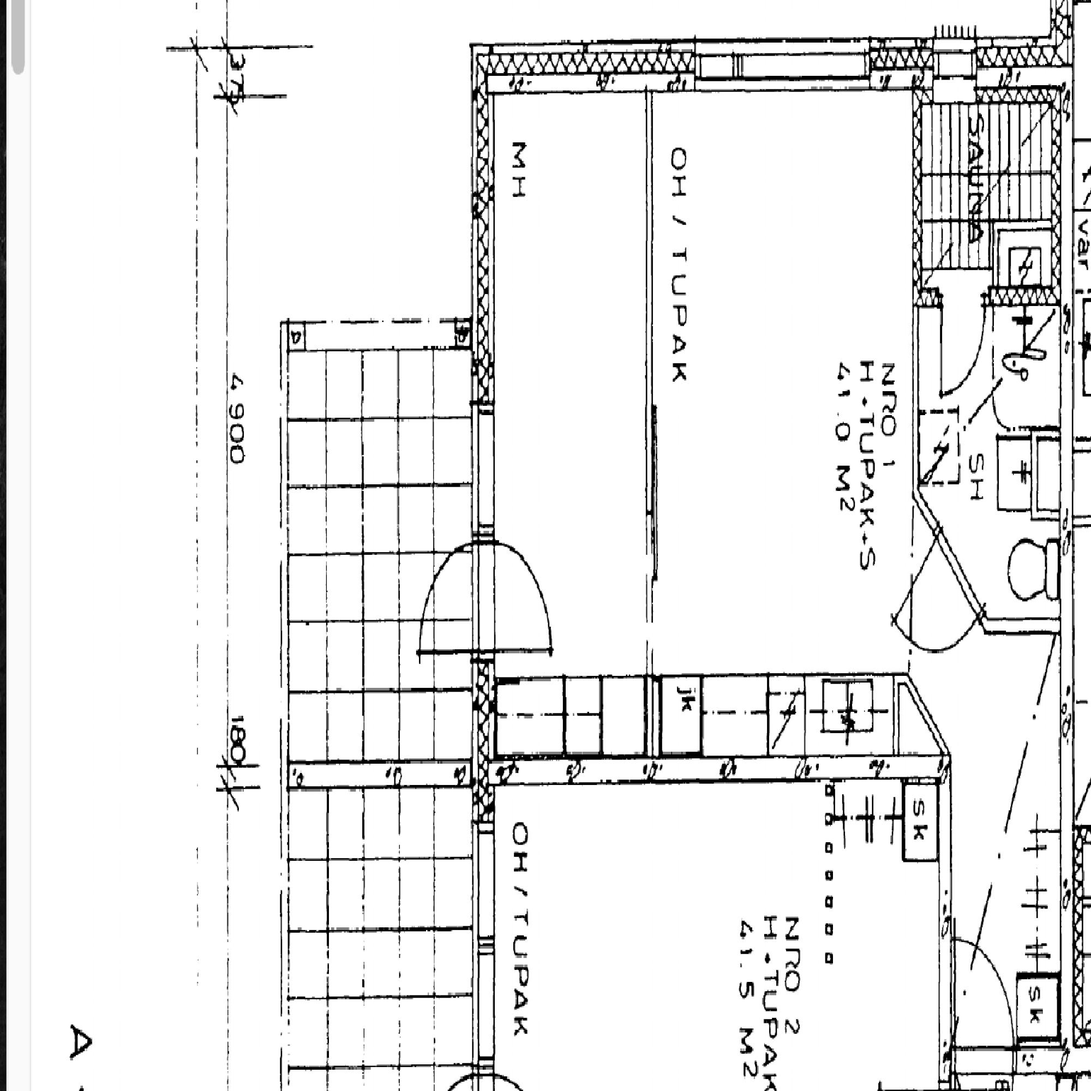wall: (471, 39, 912, 90), (471, 38, 495, 781), (471, 754, 951, 781), (912, 487, 990, 633), (1060, 308, 1074, 1074), (912, 39, 1074, 104), (645, 38, 653, 781), (1052, 39, 1074, 308), (288, 754, 471, 781), (939, 754, 951, 1075), (939, 1048, 1074, 1074), (912, 288, 1074, 308), (912, 104, 922, 308), (912, 288, 919, 496), (987, 619, 1074, 633)
